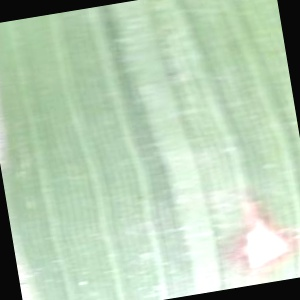Brown_Spot: (220, 181, 298, 274)
